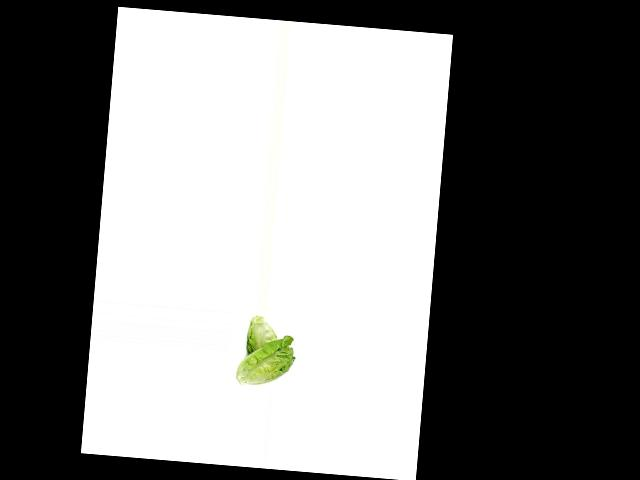lettuce: (242, 313, 280, 357)
